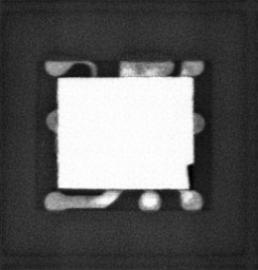DIE_BROKEN: (185, 160, 196, 191)
